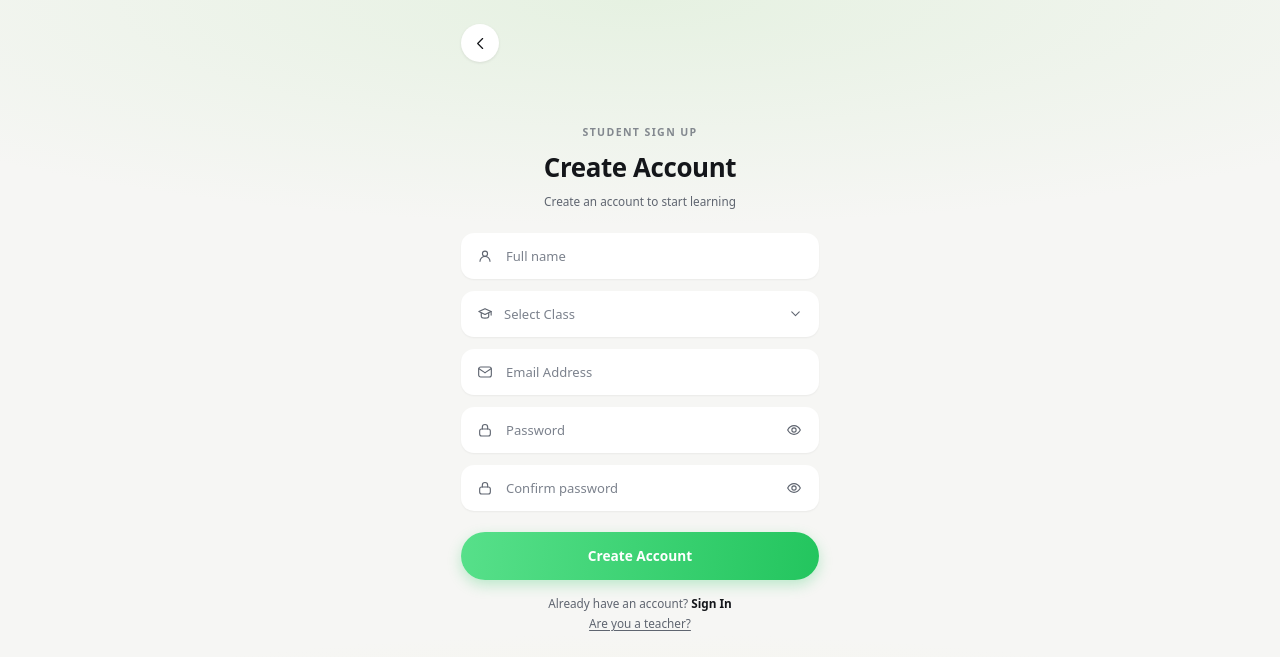
it: student registration › refuses to submit when the passwords differ
Expected: the text "Student sign up" is shown, [582,125,698,139]
Type "Limon Reza" into the field labelled "Full name" at (654, 256), box [504,234,803,278]
Type "limon@example.local" into the field labelled "Email Address" at (654, 372), box [504,350,803,394]
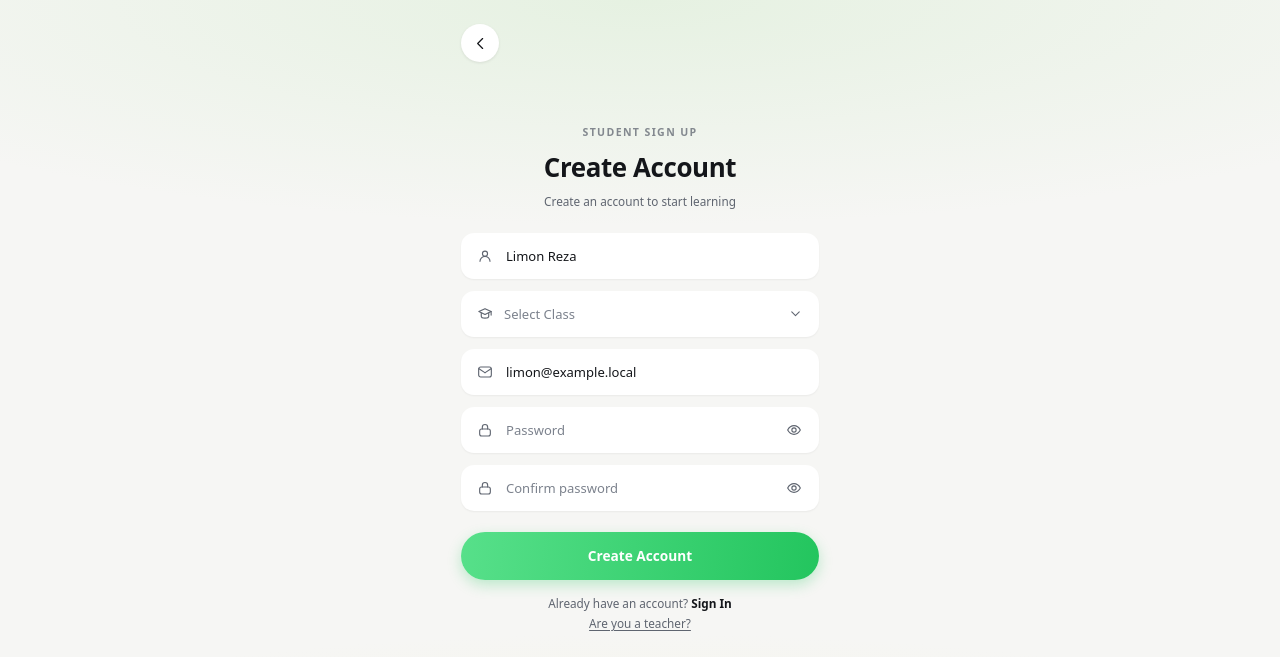
Type "ChangeMe!123" into the password field labelled "Password" at (654, 430), box [504,408,803,452]
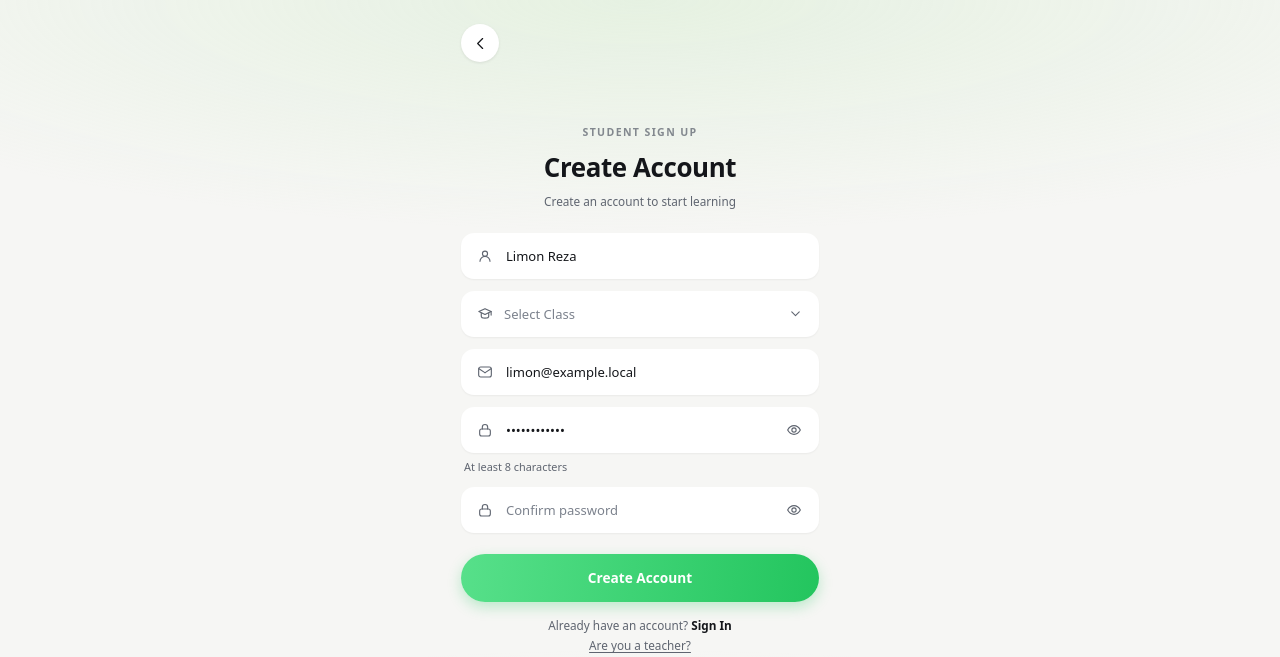
Type "ChangeMe!123" into the password field labelled "Confirm password" at (654, 510), box [504,488,803,532]
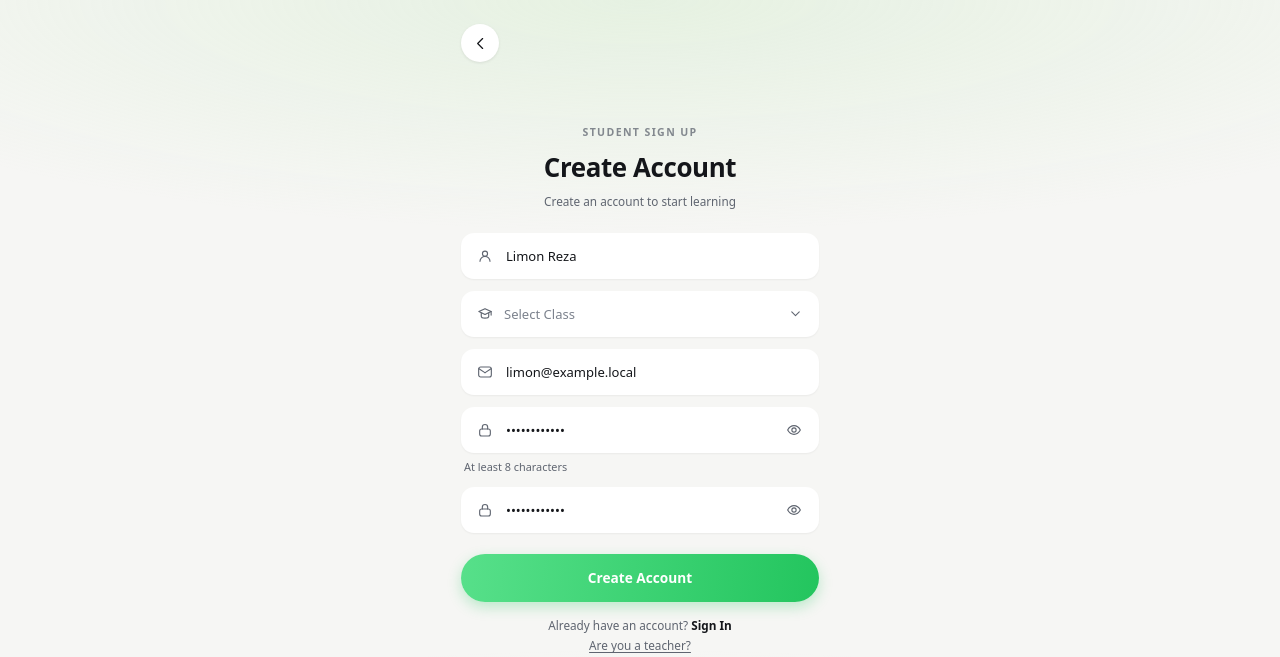
Select "Class 9" in the dropdown named "Class" at (640, 314), box [504,292,777,336]
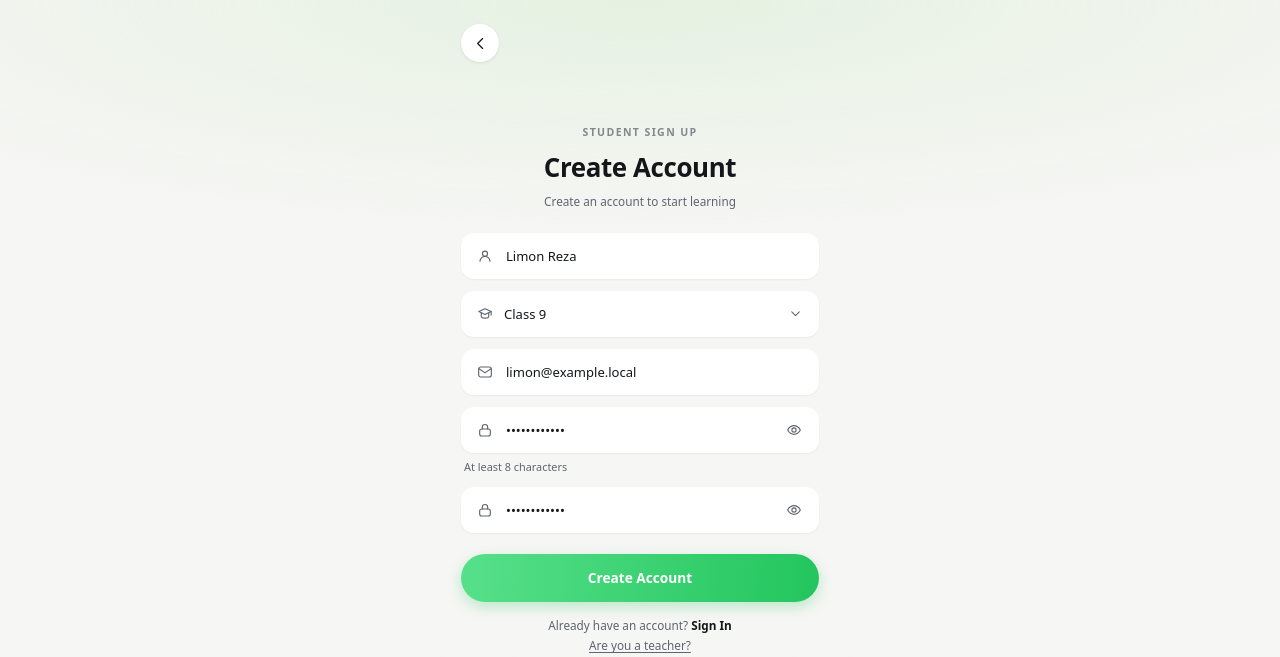
Type "something-else" into the 2nd password field named "Confirm password" at (654, 510), box [504,488,803,532]
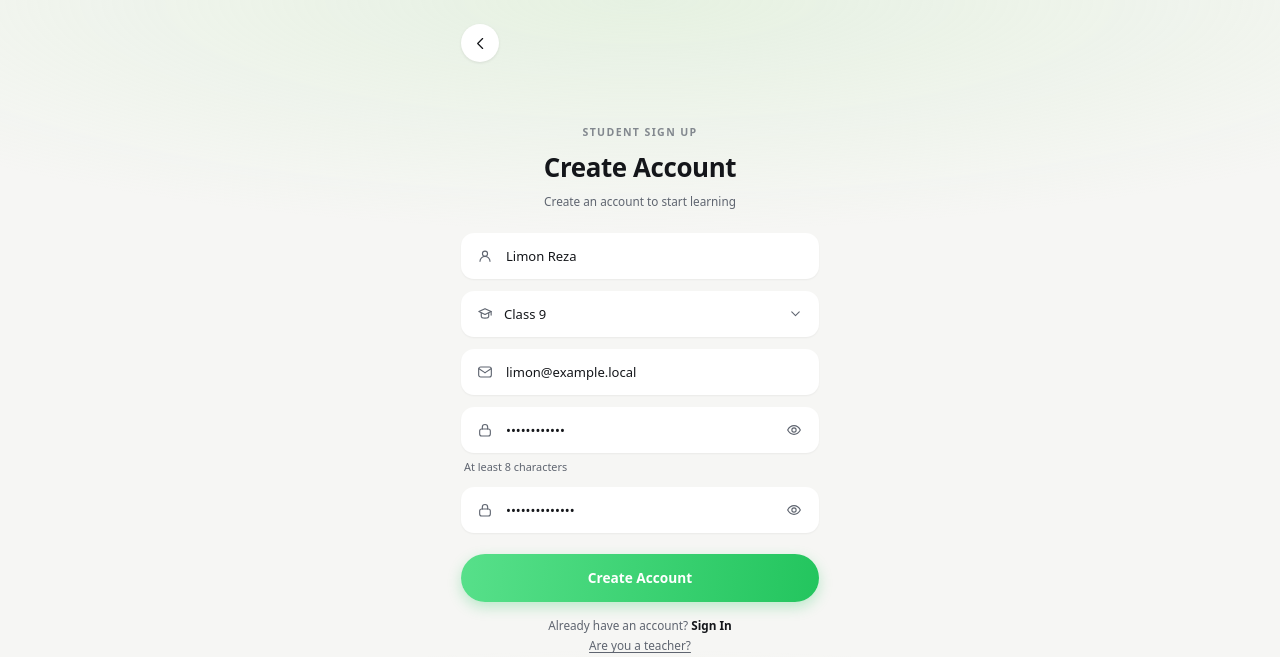
Click the button "Create Account" at (640, 578), box [461,554,819,602]
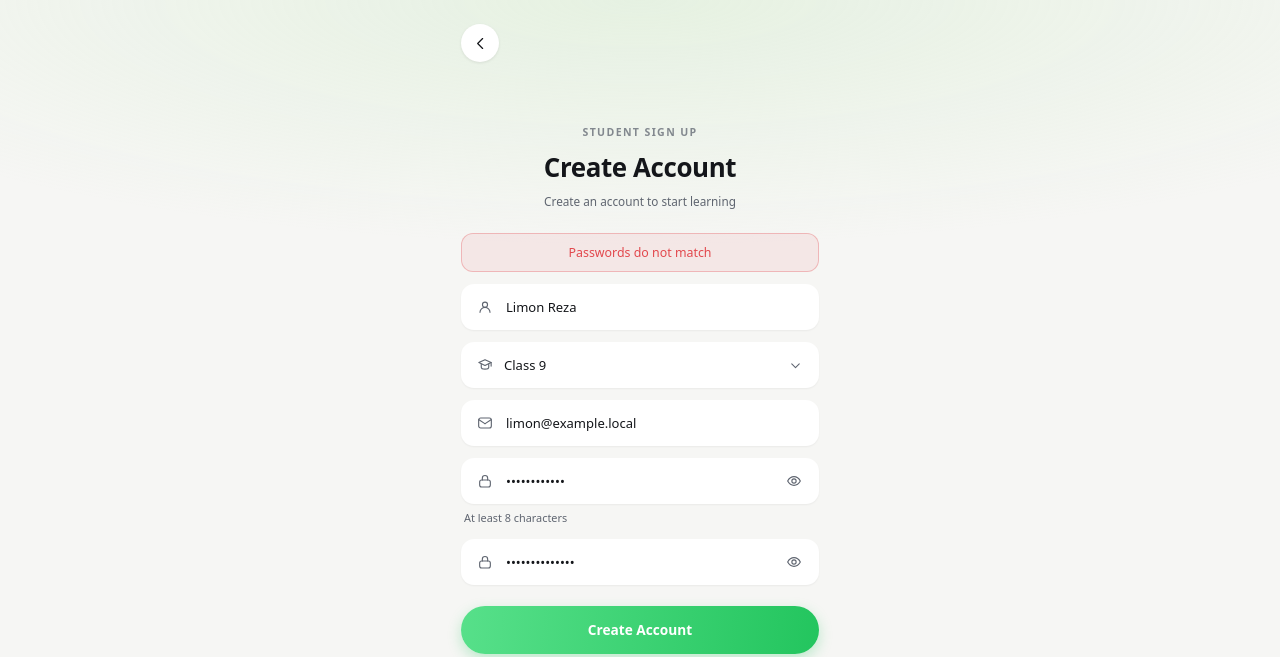
Expected: the message reads "Passwords do not match", [568,244,712,260]
